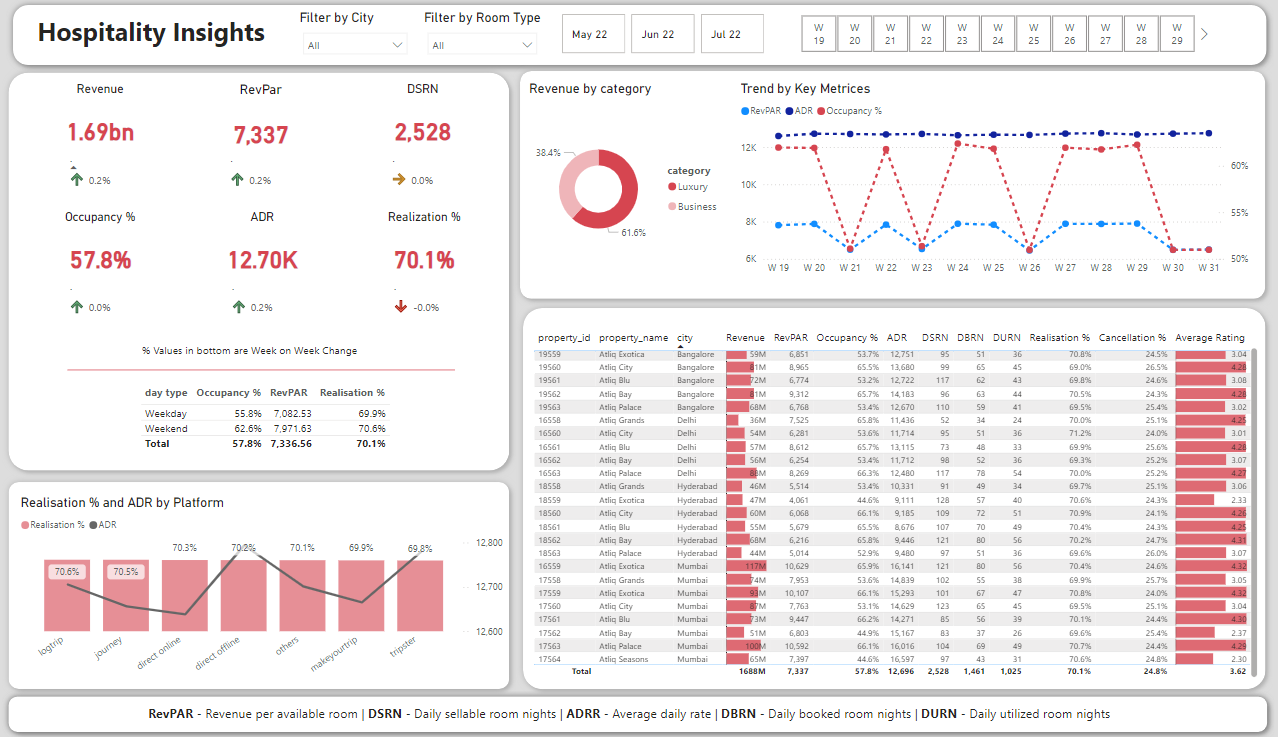

What the dashboard file says about the page in this screenshot:
{"tool":"powerbi","page":{"name":"DashBoard","canvas":[1650,950],"ordinal":0},"visuals":[{"type":"card","title":"Revenue","fields":{"Values":["key_measures.Revenue"]},"box":[27.9,106.6,206.6,111.4],"z":0,"group":"g2"},{"type":"card","title":"RevPar","fields":{"Values":["key_measures.RevPAR"]},"box":[234.5,106.6,206.6,111.4],"z":0,"group":"g3"},{"type":"card","title":"DSRN","fields":{"Values":["key_measures.DSRN"]},"box":[442.9,106.6,206.6,111.4],"z":0,"group":"g4"},{"type":"card","title":"Occupancy %","fields":{"Values":["key_measures.Occupancy %"]},"box":[29.5,269.9,206.6,111.4],"z":0,"group":"g5"},{"type":"card","title":"ADR","fields":{"Values":["key_measures.ADR"]},"box":[236.2,269.9,206.6,111.4],"z":0,"group":"g6"},{"type":"card","title":"Realization %","fields":{"Values":["key_measures.Realisation %"]},"box":[444.1,269.9,206.6,111.4],"z":0,"group":"g7"},{"type":"shape","box":[665,388.3,970,506.7],"z":0},{"type":"group","id":"g1","title":"Group 2","box":[5.6,85.6,660,528.3],"z":1000},{"type":"tableEx","fields":{"Values":["key_measures.Revenue WoW change %"]},"box":[81.9,189.4,97.1,57.1],"z":1000,"group":"g2"},{"type":"tableEx","fields":{"Values":["key_measures.Revpar WoW change %"]},"box":[288.5,189.4,97.1,57.1],"z":1000,"group":"g3"},{"type":"tableEx","fields":{"Values":["key_measures.DSRN WoW change %"]},"box":[496.9,189.4,97.1,57.1],"z":1000,"group":"g4"},{"type":"tableEx","fields":{"Values":["key_measures.Occupancy WoW change %"]},"box":[83.5,352.7,97.1,57.1],"z":1000,"group":"g5"},{"type":"tableEx","fields":{"Values":["key_measures.ADR WoW change %"]},"box":[290.2,352.7,97.1,57.1],"z":1000,"group":"g6"},{"type":"tableEx","fields":{"Values":["key_measures.Realisation WoW change %"]},"box":[498.1,352.7,97.1,57.1],"z":1000,"group":"g7"},{"type":"shape","box":[11.7,0,1625,95],"z":2000},{"type":"shape","box":[5.6,85.6,660,528.3],"z":3000,"group":"g1"},{"type":"tableEx","fields":{"Values":["dim_hotels.property_id","dim_hotels.property_name","dim_hotels.city","key_measures.Revenue","key_measures.RevPAR","key_measures.Occupancy %","key_measures.ADR","key_measures.DSRN","key_measures.DBRN","key_measures.DURN","key_measures.Realisation %","key_measures.Cancellation %"]},"box":[683.3,420,938.3,456.7],"z":3000},{"type":"slicer","title":"Filter by City","fields":{"Values":["dim_hotels.city"]},"box":[383.3,15,153.3,60],"z":4000},{"type":"shape","box":[661.7,85,973.3,310],"z":5000},{"type":"shape","box":[5,611.7,660,283.3],"z":6000},{"type":"slicer","title":"Filter by Room Type","fields":{"Values":["dim_rooms.room_class"]},"box":[541.7,15,160,60],"z":7000},{"type":"group","id":"g2","title":"Group 1","box":[27.9,106.6,206.7,140],"z":7000,"group":"g1"},{"type":"advancedSlicerVisual","fields":{"Values":["dim_date.mmm yy"]},"box":[720,15,271.7,60],"z":8000},{"type":"group","id":"g3","title":"Group 1","box":[234.5,106.6,208.3,140],"z":8000,"group":"g1"},{"type":"slicer","fields":{"Values":["dim_date.week no"]},"box":[1006.7,15,553.3,60],"z":9000},{"type":"group","id":"g4","title":"Group 1","box":[442.9,106.6,208.3,140],"z":9000,"group":"g1"},{"type":"donutChart","fields":{"Category":["dim_hotels.category"],"Y":["key_measures.Revenue"]},"box":[676.7,106.7,261.7,258.3],"z":10000},{"type":"group","id":"g5","title":"Group 1","box":[29.5,269.9,206.7,140],"z":10000,"group":"g1"},{"type":"shape","box":[6.2,886.9,1631.7,63.3],"z":10000,"group":"g8"},{"type":"group","id":"g6","title":"Group 1","box":[236.2,269.9,206.7,140],"z":11000,"group":"g1"},{"type":"lineClusteredColumnComboChart","title":"Realisation % and ADR by Platform","fields":{"Y":["key_measures.Realisation %"],"Y2":["key_measures.ADR"],"Category":["fact_bookings.booking_platform"]},"box":[25,636.7,628.3,240],"z":11000},{"type":"textbox","box":[48.9,899.5,1525,35],"z":11000,"group":"g8"},{"type":"lineChart","title":"Trend by Key Metrices","fields":{"Category":["dim_date.week no"],"Y":["key_measures.RevPAR","key_measures.ADR"],"Y2":["key_measures.Occupancy %"]},"box":[948.3,106.7,661.7,258.3],"z":12000},{"type":"group","id":"g7","title":"Group 1","box":[444.1,269.9,207.1,140],"z":12000,"group":"g1"},{"type":"textbox","box":[36.7,15,321.7,60],"z":13000},{"type":"textbox","box":[181.2,434.9,311.7,30],"z":13000,"group":"g1"},{"type":"shape","box":[89.5,463.2,496.7,26.7],"z":14000,"group":"g1"},{"type":"group","id":"g8","title":"Group 3","box":[6.2,886.9,1631.7,63.3],"z":14000},{"type":"tableEx","fields":{"Values":["dim_date.day type","key_measures.Occupancy %","key_measures.RevPAR","key_measures.Realisation %"]},"box":[179.2,489.9,332,108],"z":15000,"group":"g1"}]}

Visuals, with their boxes in screenshot pixels (x1, y1, x2, y2), scaled from the page's 1650x950 canvas onto the 1278x737 screenshot:
"Revenue" card: 22/83/182/169
"RevPar" card: 182/83/342/169
"DSRN" card: 343/83/503/169
"Occupancy %" card: 23/209/183/296
"ADR" card: 183/209/343/296
"Realization %" card: 344/209/504/296
shape: 515/301/1266/694
"Group 2" group: 4/66/516/476
tableEx - key_measures.Revenue WoW change %: 63/147/139/191
tableEx - key_measures.Revpar WoW change %: 223/147/299/191
tableEx - key_measures.DSRN WoW change %: 385/147/460/191
tableEx - key_measures.Occupancy WoW change %: 65/274/140/318
tableEx - key_measures.ADR WoW change %: 225/274/300/318
tableEx - key_measures.Realisation WoW change %: 386/274/461/318
shape: 9/0/1268/74
shape: 4/66/516/476
tableEx - dim_hotels.property_id x dim_hotels.property_name: 529/326/1256/680
"Filter by City" slicer: 297/12/416/58
shape: 513/66/1266/306
shape: 4/475/515/694
"Filter by Room Type" slicer: 420/12/543/58
"Group 1" group: 22/83/182/191
advancedSlicerVisual - dim_date.mmm yy: 558/12/768/58
"Group 1" group: 182/83/343/191
slicer - dim_date.week no: 780/12/1208/58
"Group 1" group: 343/83/504/191
donutChart - dim_hotels.category x key_measures.Revenue: 524/83/727/283
"Group 1" group: 23/209/183/318
shape: 5/688/1269/736
"Group 1" group: 183/209/343/318
"Realisation % and ADR by Platform" lineClusteredColumnComboChart: 19/494/506/680
textbox: 38/698/1219/725
"Trend by Key Metrices" lineChart: 735/83/1247/283
"Group 1" group: 344/209/504/318
textbox: 28/12/278/58
textbox: 140/337/382/361
shape: 69/359/454/380
"Group 3" group: 5/688/1269/736
tableEx - dim_date.day type x key_measures.Occupancy %: 139/380/396/464
